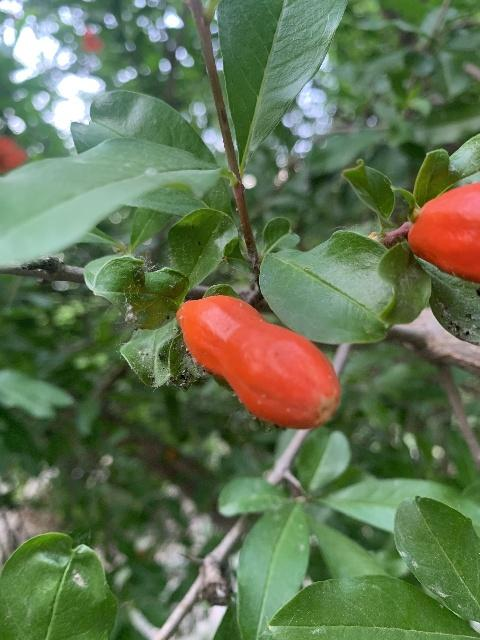bud: (176, 294, 340, 430)
